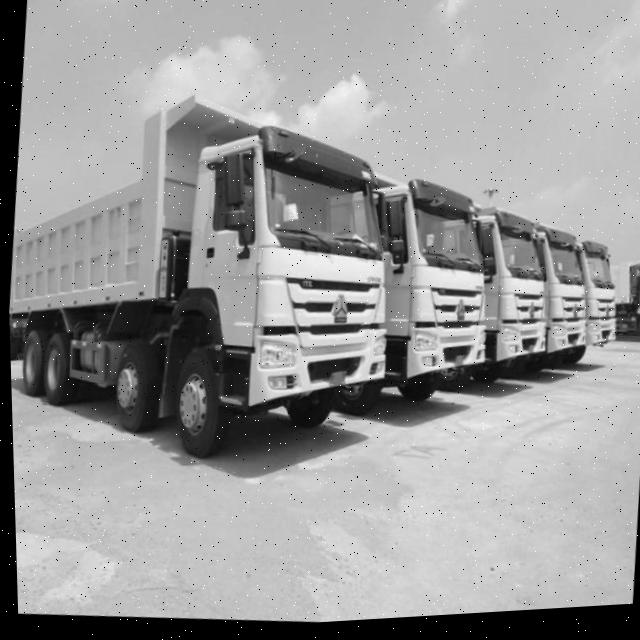truck: (153, 86, 407, 471), (354, 165, 510, 426), (466, 201, 556, 381), (533, 225, 598, 369), (571, 234, 628, 365)
